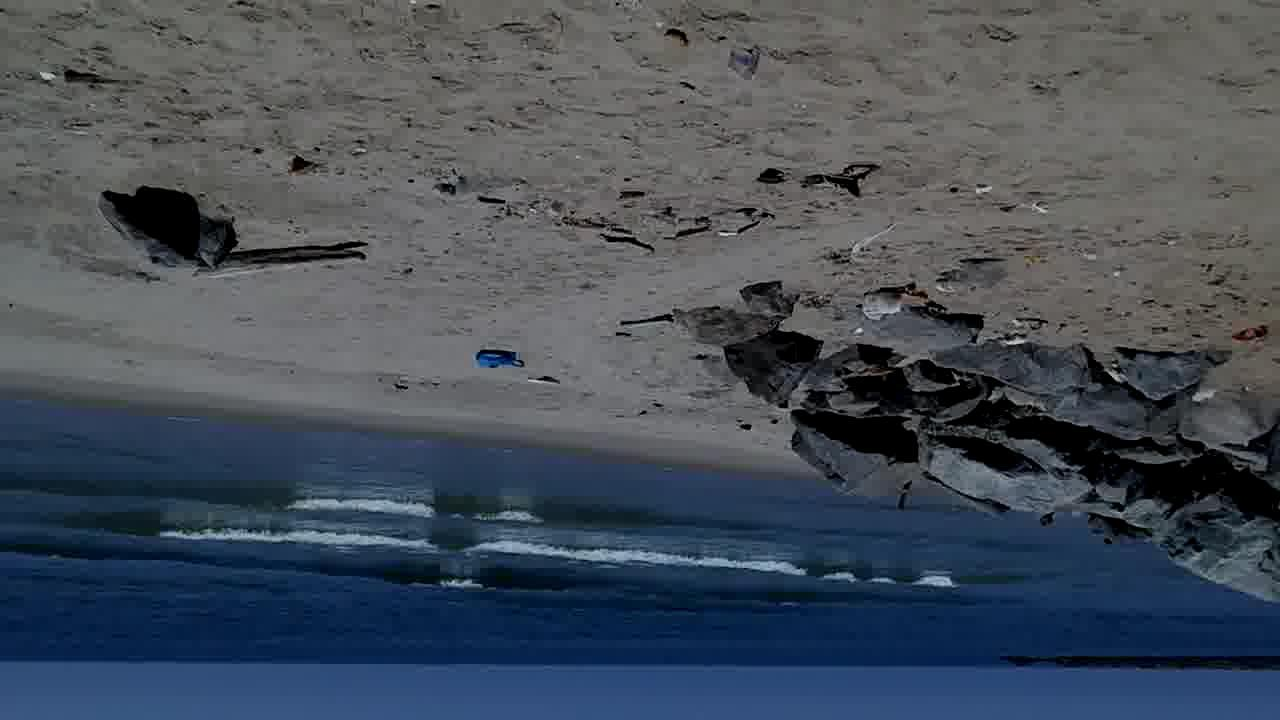large collection of objects: (87, 184, 239, 272)
obj: (552, 196, 762, 253), (194, 247, 370, 280), (802, 164, 882, 197), (472, 347, 522, 374), (63, 68, 124, 86), (661, 24, 698, 48), (286, 152, 320, 176)
sand/background: (2, 232, 1279, 719)
